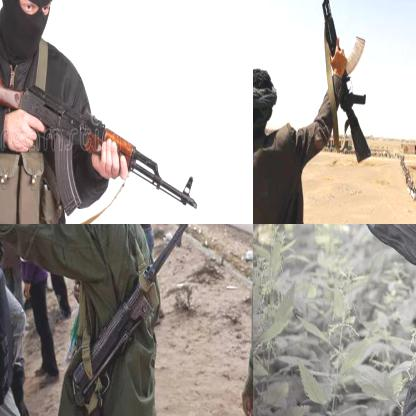rifle: (0, 57, 199, 219), (71, 224, 193, 415), (311, 0, 372, 165)
